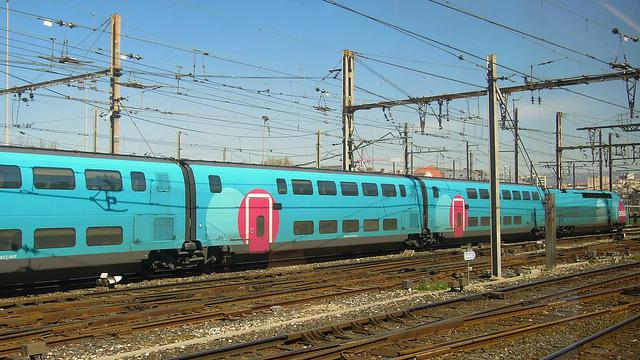Train: (1, 148, 630, 284)
